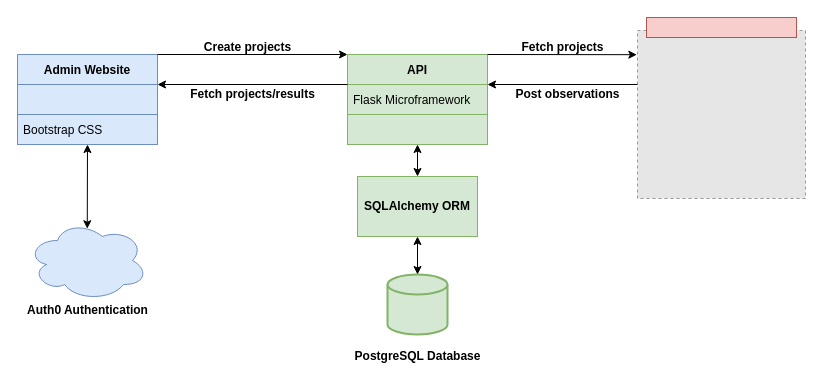
The diagram is 823 pixels wide and 384 high, and some of its shapes have lost their labels. Grey dashed boxes stand in for pictures. The centre of each missing label's shape, as x and y in pixels:
Flutter Mobile Field App: (x=721, y=27)
Gunicorn Server: (x=417, y=129)
Vue.js Framework: (x=87, y=99)
